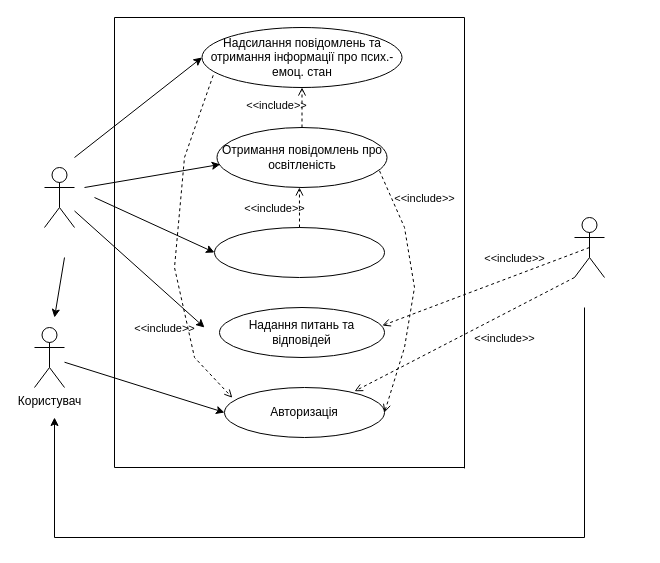
This 660x563 diagram has some shape labels left out. The centre of each missing label's shape, as x and y in pixels:
Аналіз наданої інформації: point (299, 252)
Споживач: point (59, 197)
Технічна підтримка: point (589, 247)
